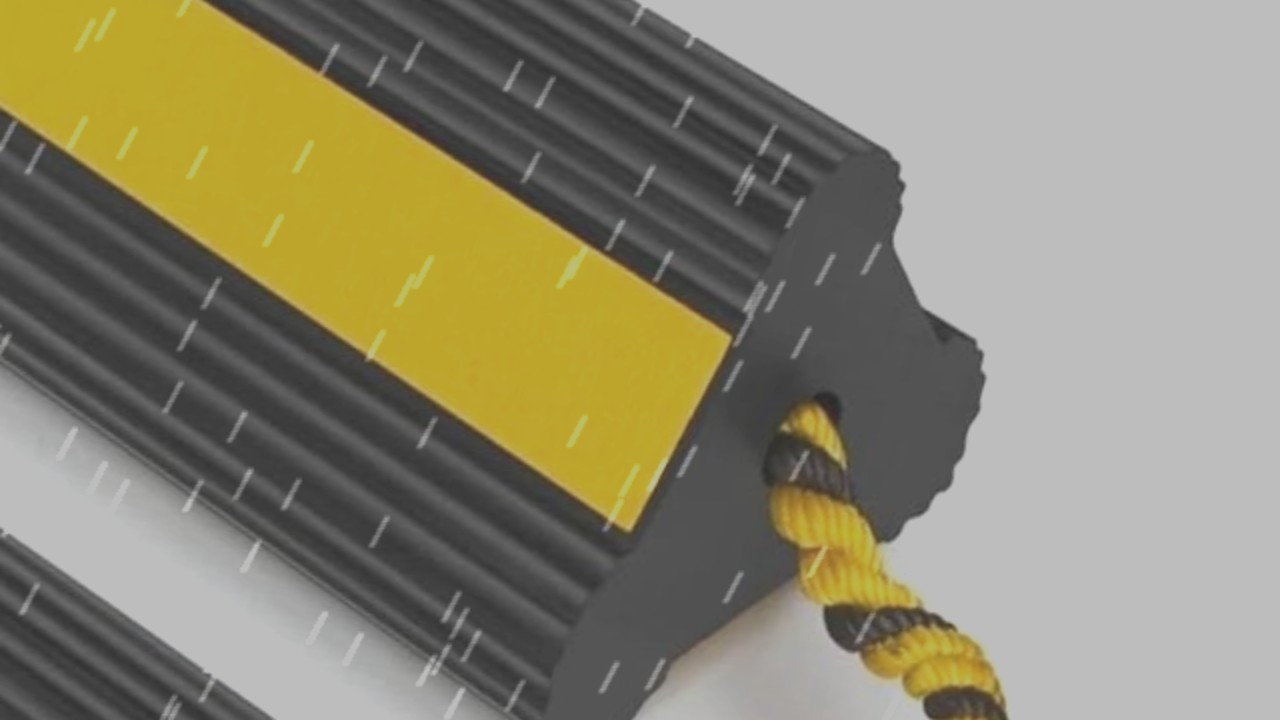chock: (0, 0, 1134, 720), (0, 390, 817, 720)
